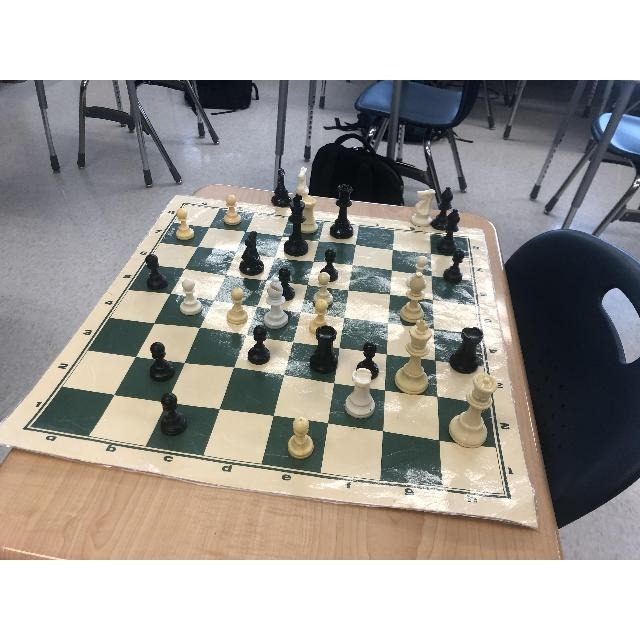black-bishop: (434, 209, 459, 254)
black-king: (284, 194, 308, 256)
black-knight: (240, 230, 264, 275)
black-pawn: (161, 393, 187, 435), (149, 342, 174, 381), (248, 325, 270, 364), (356, 342, 378, 380), (146, 254, 168, 290), (273, 267, 294, 301), (444, 250, 464, 283), (320, 248, 338, 281)
black-queen: (330, 183, 353, 239)
black-rook: (451, 326, 483, 373), (310, 325, 338, 372)
white-bishop: (263, 277, 288, 329), (400, 271, 424, 322)
white-king: (394, 320, 431, 394)
white-pawn: (288, 417, 314, 459), (226, 286, 247, 323), (180, 279, 201, 315), (309, 300, 331, 334), (406, 256, 428, 288), (313, 272, 333, 306), (176, 208, 194, 240), (224, 194, 242, 225)
white-queen: (448, 373, 497, 448)
white-rook: (345, 368, 375, 418), (298, 196, 317, 233)
